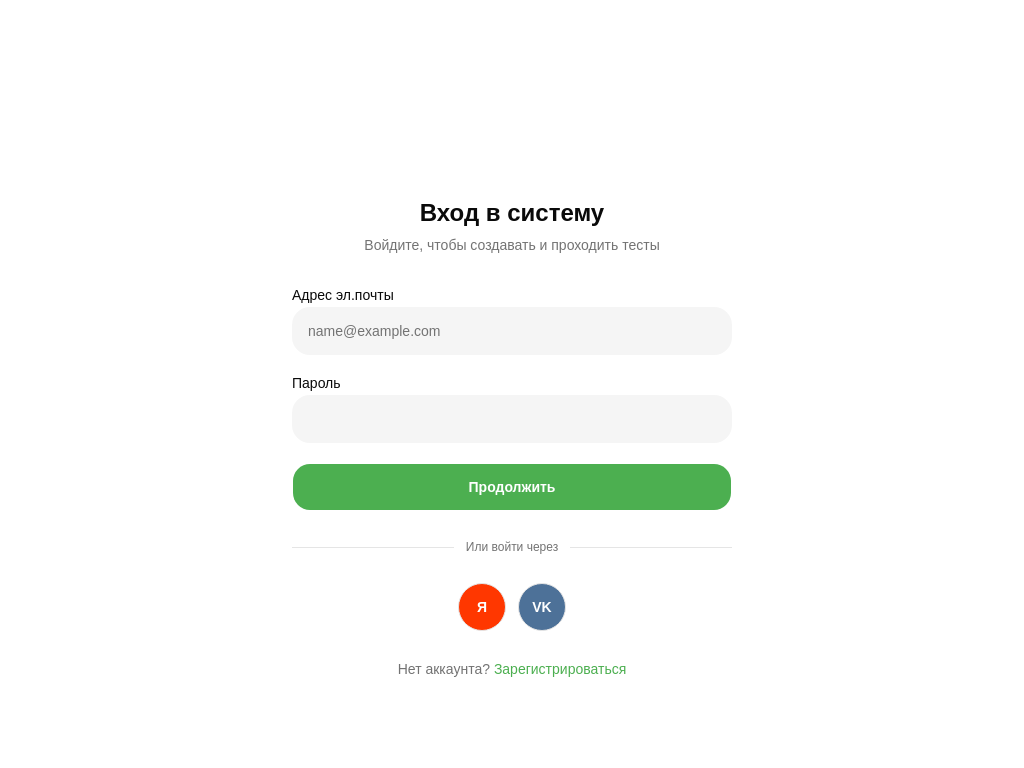
Test: LoginPage › shows warning dialog when social login button is clicked
The image size is (1024, 768).
Click the button "Я": (482,607) [458, 583, 506, 631]
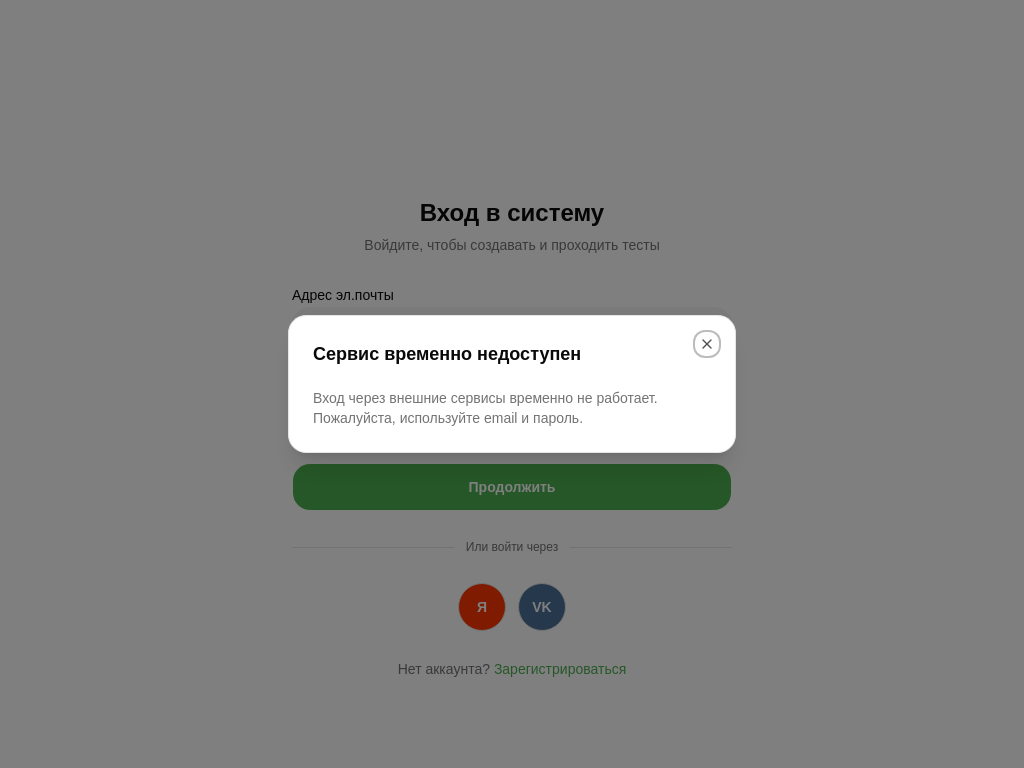
Check: the heading "Сервис временно недоступен" is shown, box [313, 344, 581, 364]
